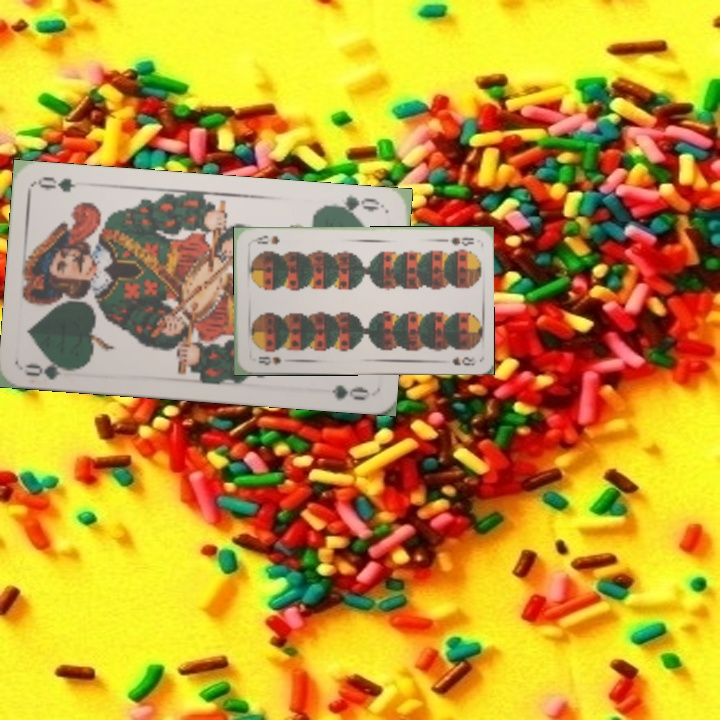GO: (23, 355, 82, 383), (326, 191, 385, 218)
S8: (437, 233, 477, 248), (255, 353, 283, 368)
